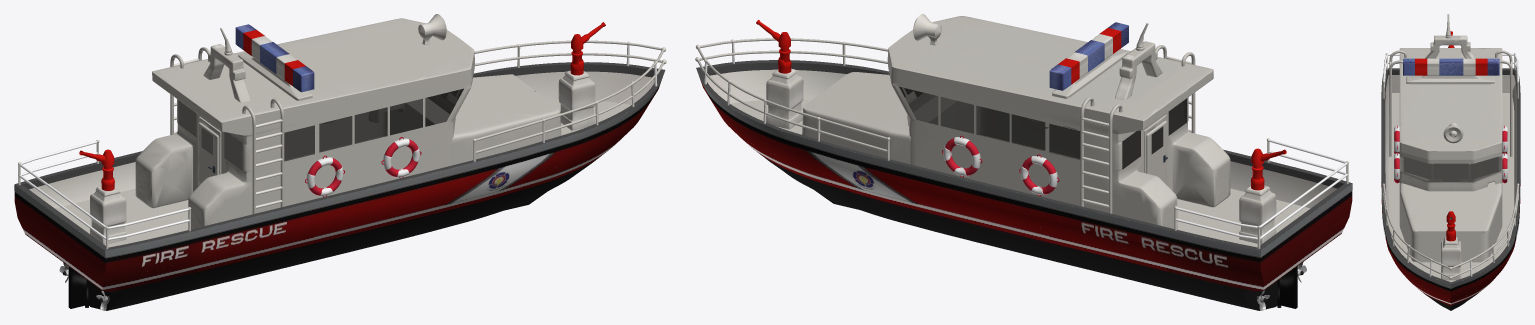
The model's file is boat.glb.
3 views of the same model, side by side, from view 1: azimuth 30°, elevation 25°; view 2: azimuth 150°, elevation 25°; view 3: azimuth 270°, elevation 25° (orthographic). The views are drawn at different scales.
Parts seen in each view (by area): view 1: Object_9, Object_2, Object_28, Object_5, Object_3, Object_30, Object_29, Object_7, Object_21, Object_26, Object_18; view 2: Object_9, Object_3, Object_28, Object_5, Object_2, Object_30, Object_29, Object_7, Object_21, Object_26, Object_18; view 3: Object_9, Object_5, Object_28, Object_2, Object_3, Object_7, Object_30, Object_26, Object_21, Object_29.
Boxes of the visible parts, x1=… form: Object_9: x1=18, y1=14, x2=666, y2=249; Object_2: x1=60, y1=83, x2=660, y2=310; Object_28: x1=178, y1=88, x2=463, y2=170; Object_5: x1=15, y1=62, x2=665, y2=250; Object_3: x1=14, y1=184, x2=528, y2=306; Object_30: x1=79, y1=22, x2=605, y2=190; Object_29: x1=18, y1=45, x2=657, y2=240; Object_7: x1=235, y1=24, x2=314, y2=92; Object_21: x1=305, y1=137, x2=421, y2=196; Object_26: x1=306, y1=120, x2=419, y2=195; Object_18: x1=68, y1=266, x2=88, y2=308; Object_9: x1=695, y1=14, x2=1348, y2=248; Object_3: x1=700, y1=80, x2=1306, y2=310; Object_28: x1=888, y1=68, x2=1187, y2=169; Object_5: x1=696, y1=60, x2=1352, y2=250; Object_2: x1=819, y1=183, x2=1352, y2=306; Object_30: x1=756, y1=20, x2=1286, y2=190; Object_29: x1=704, y1=42, x2=1347, y2=239; Object_7: x1=1049, y1=22, x2=1128, y2=90; Object_21: x1=942, y1=135, x2=1059, y2=196; Object_26: x1=943, y1=118, x2=1057, y2=194; Object_18: x1=1277, y1=266, x2=1297, y2=308; Object_9: x1=1381, y1=14, x2=1519, y2=282; Object_5: x1=1381, y1=68, x2=1520, y2=284; Object_28: x1=1403, y1=157, x2=1498, y2=182; Object_2: x1=1381, y1=177, x2=1450, y2=310; Object_3: x1=1451, y1=177, x2=1520, y2=310; Object_7: x1=1403, y1=58, x2=1499, y2=75; Object_30: x1=1415, y1=31, x2=1487, y2=241; Object_26: x1=1394, y1=126, x2=1507, y2=183; Object_21: x1=1394, y1=125, x2=1507, y2=183; Object_29: x1=1383, y1=53, x2=1518, y2=276.
Bounding box in the file's own units: 10.3 × 4.12 × 2.8.
14 materials, 12 textured.
